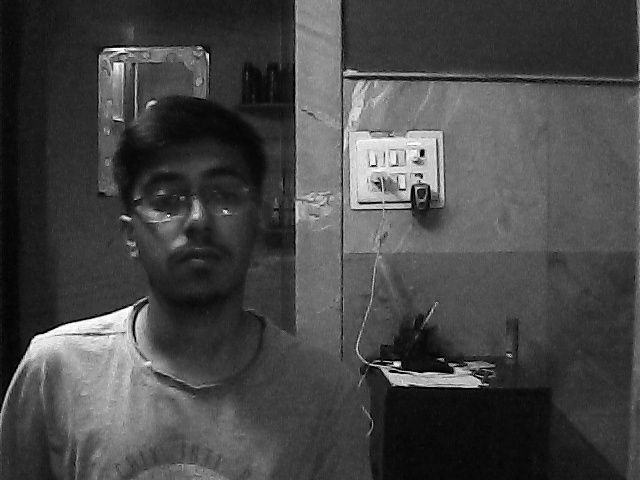nomask: (131, 140, 269, 309)
